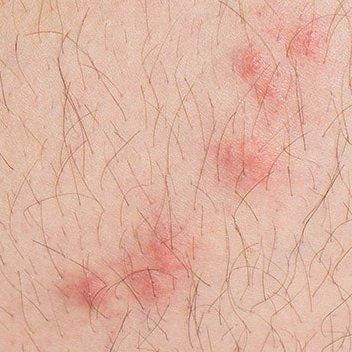Fleas: (125, 208, 195, 306), (210, 139, 275, 186), (56, 270, 117, 317), (227, 42, 270, 85), (250, 72, 287, 116), (288, 25, 324, 59)
